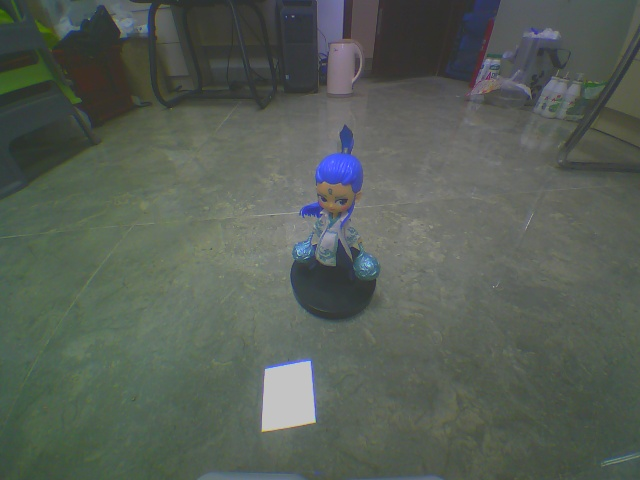Aobing: (286, 114, 405, 293)
